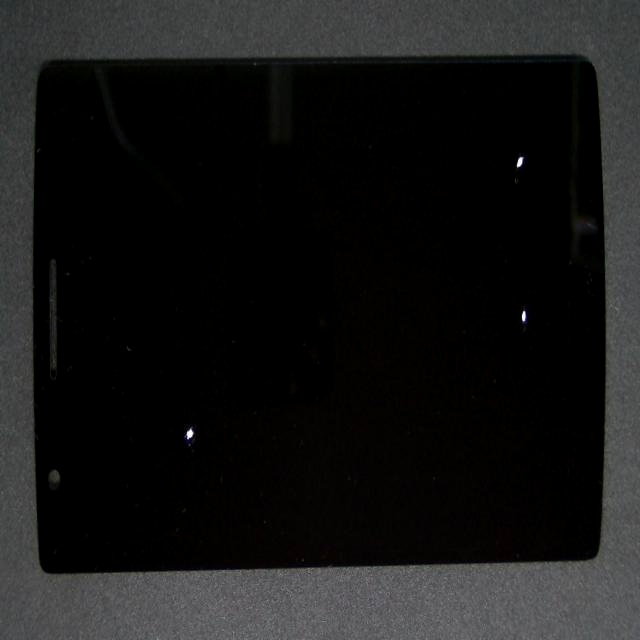stain: (270, 137, 640, 440), (114, 208, 301, 598), (275, 47, 640, 209)
